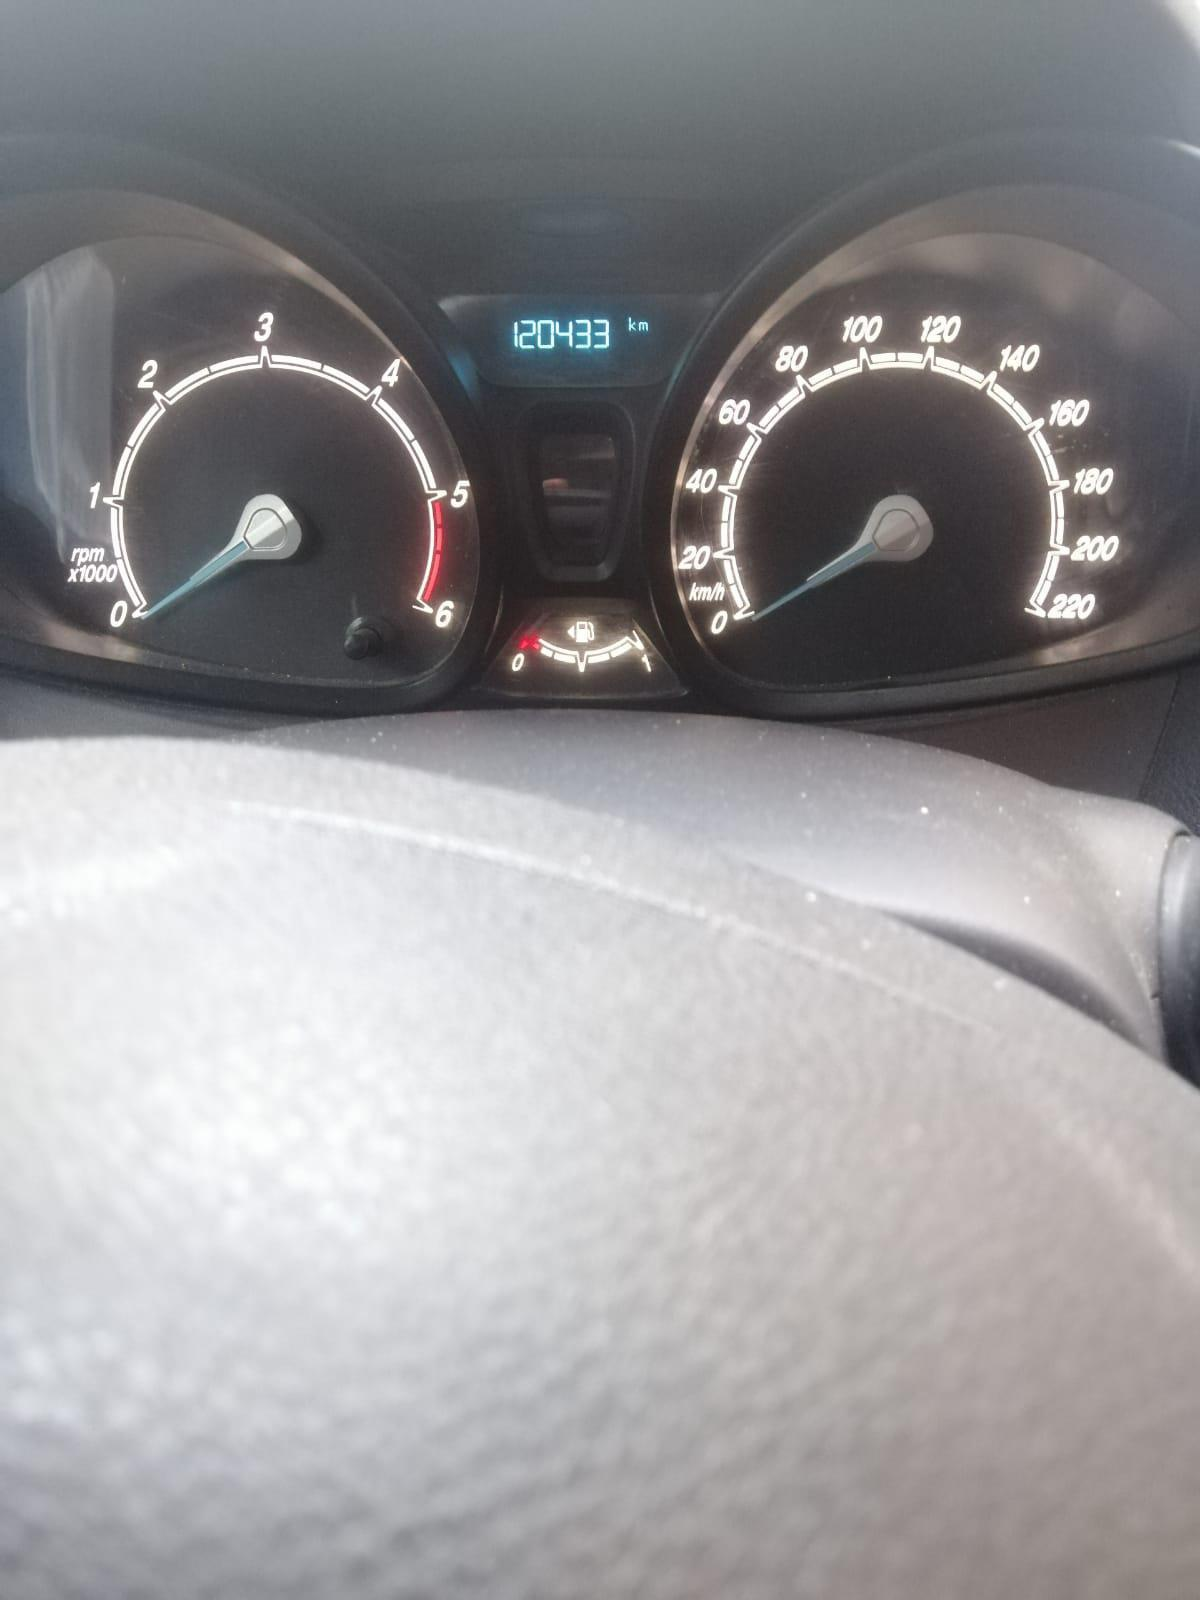0: (537, 316, 555, 349)
1: (512, 317, 519, 350)
2: (519, 317, 534, 350)
3: (592, 317, 613, 351), (574, 319, 591, 349)
4: (555, 319, 574, 348)
X: (626, 316, 637, 333), (637, 320, 649, 333)
odometer: (498, 301, 661, 375)
